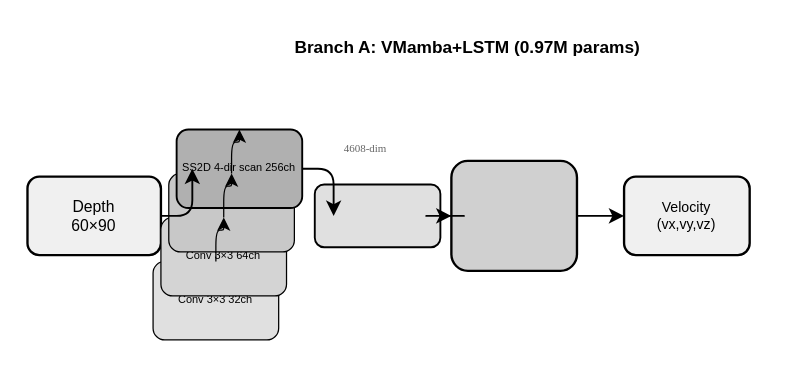
Image size: 809x367. Some labels were removed from this diagram. The box of each missing label's shape, as (x1, y1, x2, y2) in pixels:
Concat +vel+quat: (313, 183, 441, 247)
Conv 3×3 128ch: (167, 172, 294, 252)
LSTM×3 h=128: (449, 159, 577, 271)
